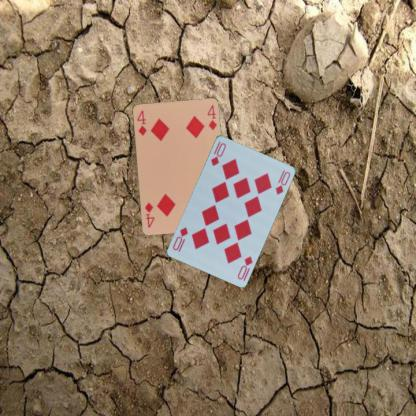10d: (208, 139, 227, 167), (235, 253, 254, 280)
4d: (134, 108, 148, 136)
